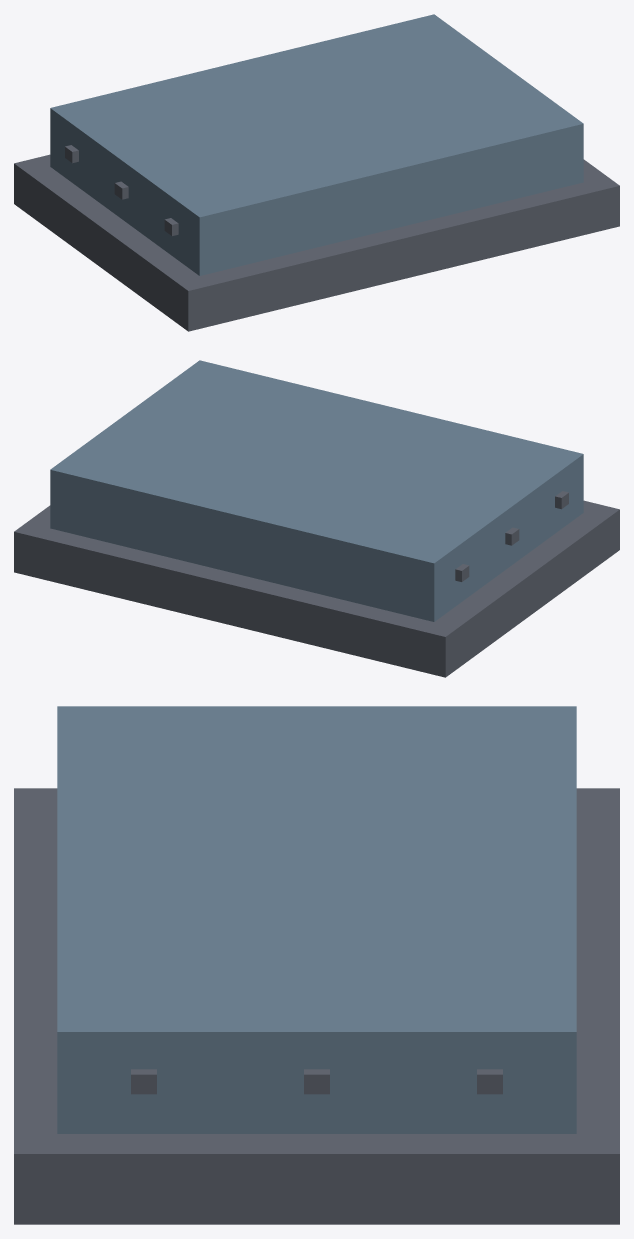
File: skylight.glb
The picture shows the model from 3 angles, top to bottom: view 1: azimuth 30°, elevation 25°; view 2: azimuth 150°, elevation 25°; view 3: azimuth 270°, elevation 25°; orthographic projection. The views are drawn at different scales.
Parts seen in each view (by area): view 1: skylight; view 2: skylight; view 3: skylight.
Boxes of the visible parts, x1,y1,x2,y2 form: skylight: [14, 14, 619, 331]; skylight: [14, 360, 619, 677]; skylight: [14, 706, 619, 1224].
Size of the model in its own units: 2 by 0.44 by 1.4.
